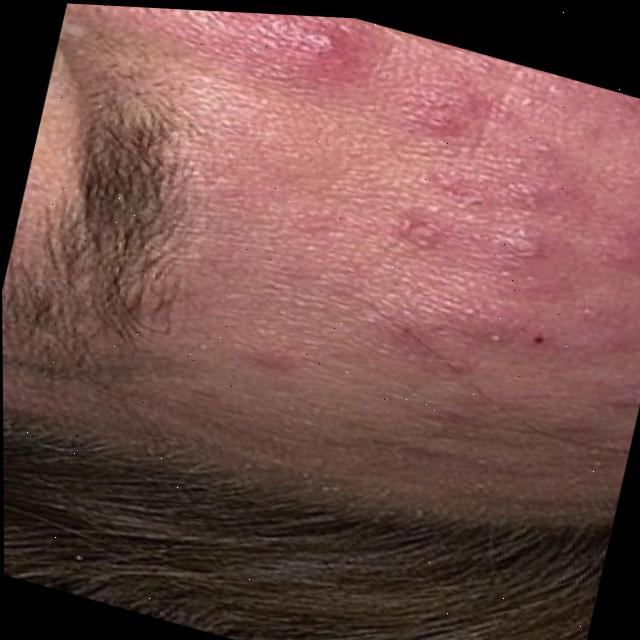Rosacea: (25, 1, 640, 476)
